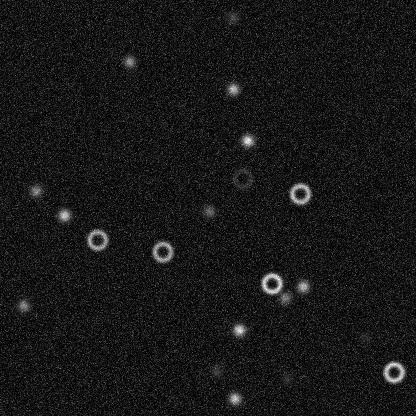Ring: (150, 239, 174, 263), (288, 181, 312, 205), (381, 360, 405, 384), (259, 271, 283, 295), (230, 166, 254, 190), (85, 227, 109, 251)
Spot: (277, 289, 293, 305), (224, 9, 240, 25), (201, 203, 217, 219), (56, 207, 72, 223), (208, 362, 224, 378), (15, 297, 31, 313), (27, 183, 43, 199), (279, 370, 295, 386), (225, 81, 241, 97), (239, 132, 255, 148), (121, 53, 137, 69), (294, 278, 310, 294), (226, 390, 242, 406), (230, 321, 246, 337), (356, 329, 372, 345)
